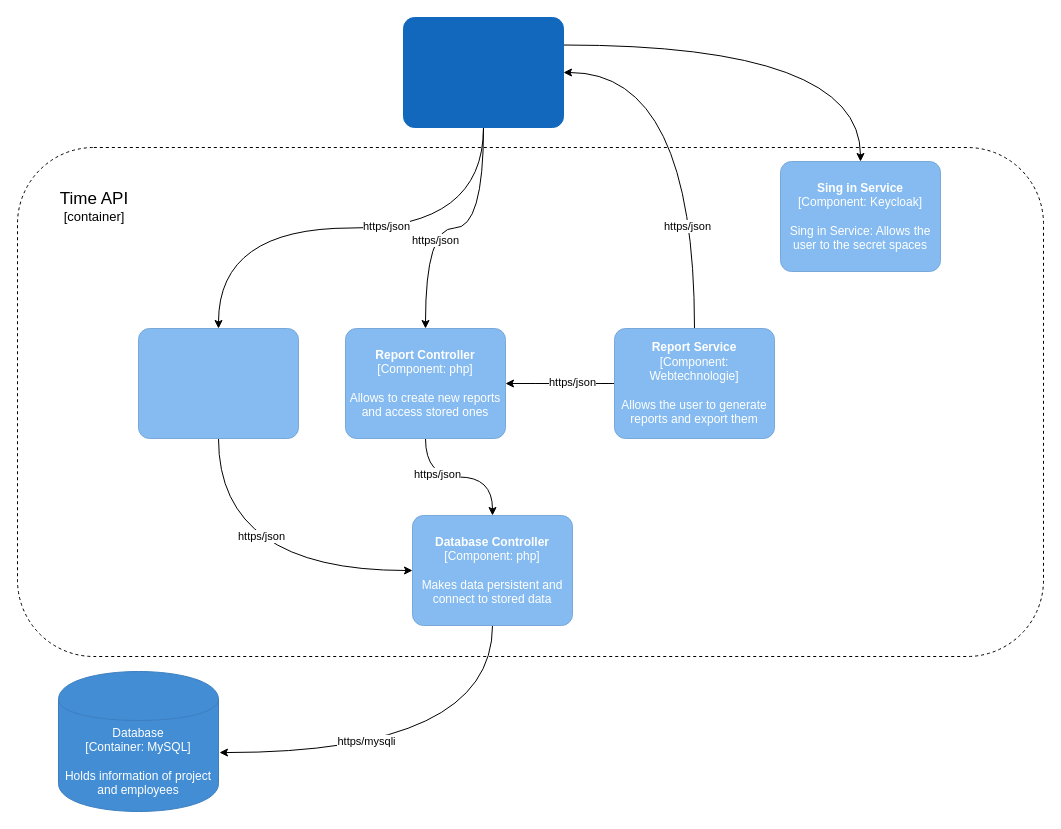
Some shapes in this 1061 by 829 pixel diagram are drawn without their labels. Each missing label, with the box of its shape:
Project Controller [Component: php] Allows to create and access projects: (138, 328, 298, 438)
WebApp [Software System] User-Interface: (402, 16, 564, 128)
